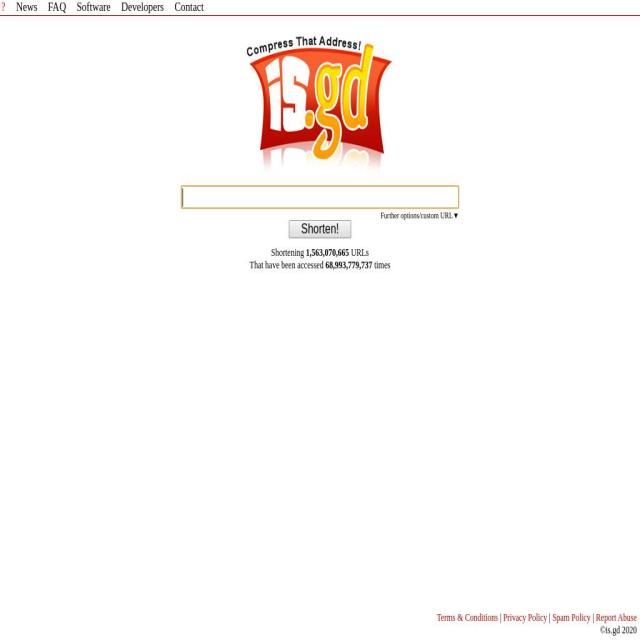field: (181, 186, 459, 208), (289, 220, 351, 238)
image: (242, 28, 398, 186)
label: (380, 211, 460, 220)
link: (436, 612, 498, 623), (120, 0, 163, 13), (503, 612, 548, 623), (596, 612, 638, 623), (76, 0, 110, 13), (552, 612, 590, 623), (174, 0, 204, 13), (15, 0, 37, 13), (47, 0, 66, 13), (1, 0, 5, 13)
text: (250, 259, 326, 271), (325, 259, 373, 271), (306, 247, 350, 258), (599, 624, 637, 636), (271, 247, 306, 258), (372, 259, 391, 271), (349, 247, 369, 258), (590, 612, 596, 623), (498, 612, 503, 623), (547, 612, 552, 623)
